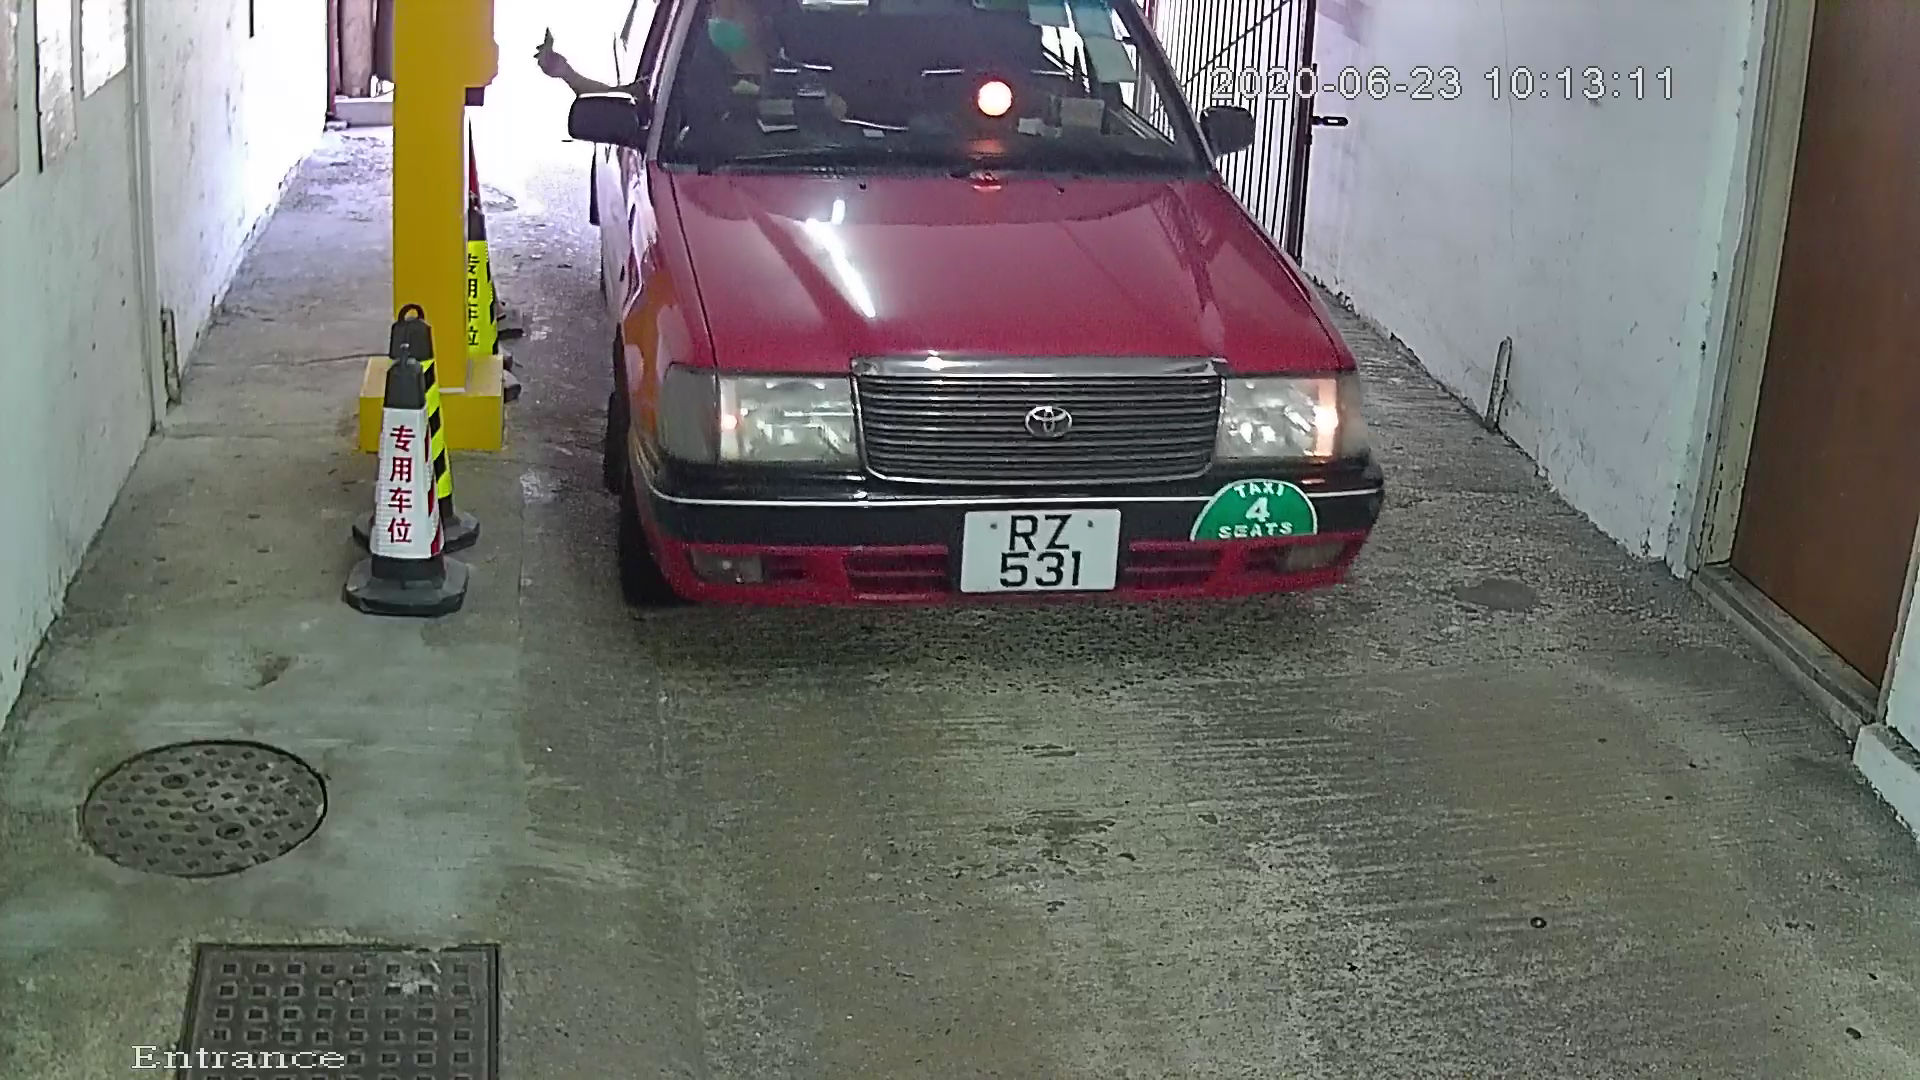taxi: (547, 1, 1427, 715)
taxi_mark: (1193, 459, 1342, 580)
